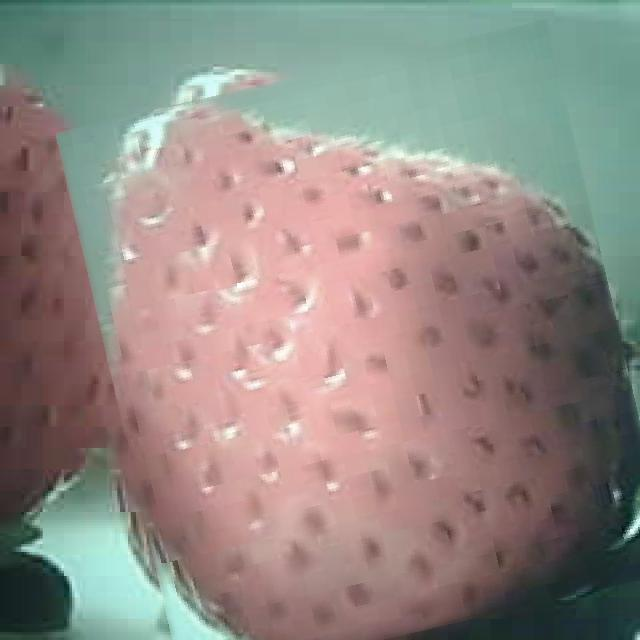strawberry: (85, 43, 640, 640)
